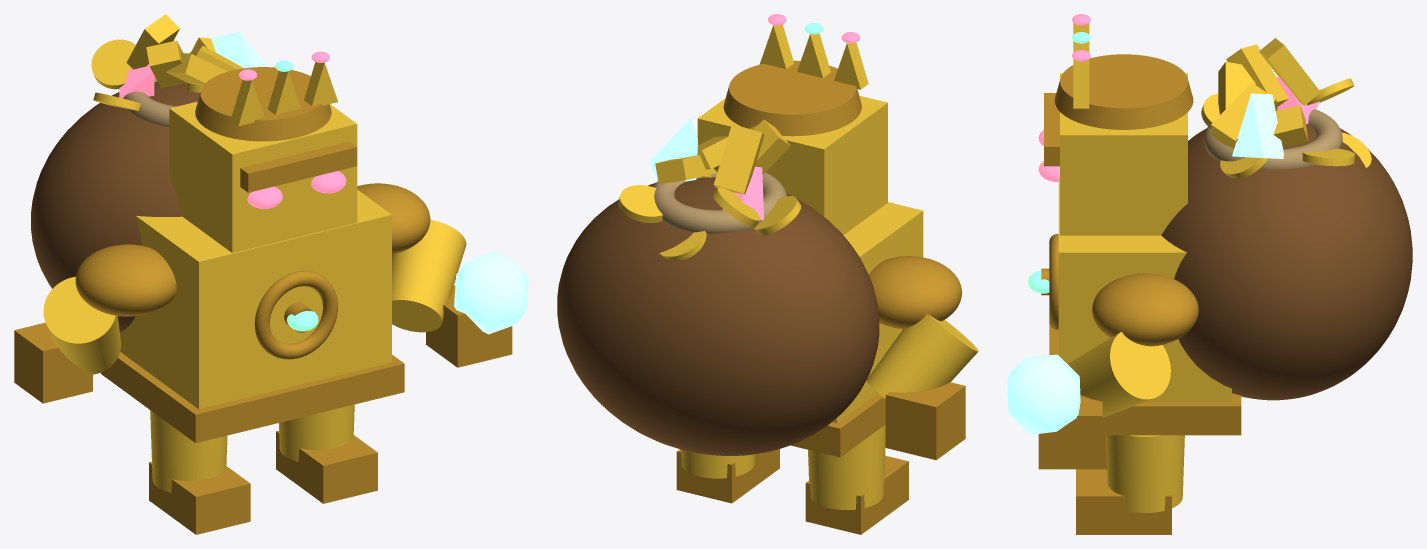
File: enemigo_golem_tesoro.glb
3 views of the same model, side by side, from view 1: azimuth 30°, elevation 25°; view 2: azimuth 150°, elevation 25°; view 3: azimuth 270°, elevation 25° (orthographic).
Visible parts, largest first — view 1: _MeshInstance3D_2, _MeshInstance3D_18, _MeshInstance3D_7, _MeshInstance3D_6, _MeshInstance3D_36, _MeshInstance3D_11, _MeshInstance3D_39, _MeshInstance3D_40, _MeshInstance3D_38, _MeshInstance3D_43, _MeshInstance3D_45, _MeshInstance3D_41 (+18 smaller); view 2: _MeshInstance3D_18, _MeshInstance3D_7, _MeshInstance3D_11, _MeshInstance3D_40, _MeshInstance3D_39, _MeshInstance3D_41, _MeshInstance3D_2, _MeshInstance3D_42, _MeshInstance3D_43, _MeshInstance3D_19, _MeshInstance3D_45, _MeshInstance3D_6 (+14 smaller); view 3: _MeshInstance3D_18, _MeshInstance3D_7, _MeshInstance3D_2, _MeshInstance3D_11, _MeshInstance3D_35, _MeshInstance3D_36, _MeshInstance3D_44, _MeshInstance3D_38, _MeshInstance3D_6, _MeshInstance3D_45, _MeshInstance3D_37, _MeshInstance3D_19 (+13 smaller).
Part boxes in pixels (box(x1,y1,x2,y2)): _MeshInstance3D_2: box(119, 189, 391, 409); _MeshInstance3D_18: box(31, 81, 199, 331); _MeshInstance3D_7: box(169, 101, 357, 252); _MeshInstance3D_6: box(101, 352, 404, 443); _MeshInstance3D_36: box(392, 219, 466, 332); _MeshInstance3D_11: box(195, 67, 331, 141); _MeshInstance3D_39: box(75, 244, 176, 316); _MeshInstance3D_40: box(43, 276, 120, 374); _MeshInstance3D_38: box(454, 251, 528, 334); _MeshInstance3D_43: box(149, 461, 250, 534); _MeshInstance3D_45: box(276, 430, 377, 503); _MeshInstance3D_41: box(14, 322, 92, 403); _MeshInstance3D_18: box(557, 177, 879, 455); _MeshInstance3D_7: box(697, 95, 887, 234); _MeshInstance3D_11: box(723, 60, 861, 136); _MeshInstance3D_40: box(866, 313, 978, 398); _MeshInstance3D_39: box(869, 256, 961, 328); _MeshInstance3D_41: box(885, 382, 965, 460); _MeshInstance3D_2: box(832, 202, 923, 423); _MeshInstance3D_42: box(808, 424, 885, 509); _MeshInstance3D_43: box(805, 455, 908, 534); _MeshInstance3D_19: box(653, 172, 786, 233); _MeshInstance3D_45: box(676, 449, 779, 503); _MeshInstance3D_6: box(791, 393, 885, 457); _MeshInstance3D_18: box(1161, 123, 1412, 400); _MeshInstance3D_7: box(1060, 73, 1187, 235); _MeshInstance3D_2: box(1058, 182, 1231, 402); _MeshInstance3D_11: box(1054, 54, 1193, 129); _MeshInstance3D_35: box(1092, 273, 1198, 346); _MeshInstance3D_36: box(1068, 332, 1170, 417); _MeshInstance3D_44: box(1106, 435, 1184, 512); _MeshInstance3D_38: box(1007, 354, 1080, 434); _MeshInstance3D_6: box(1049, 323, 1241, 435); _MeshInstance3D_45: box(1076, 469, 1171, 534); _MeshInstance3D_37: box(1038, 395, 1102, 469); _MeshInstance3D_19: box(1204, 109, 1342, 169).
Bounding box in the file's own units: 1.86 × 1.89 × 1.52.
